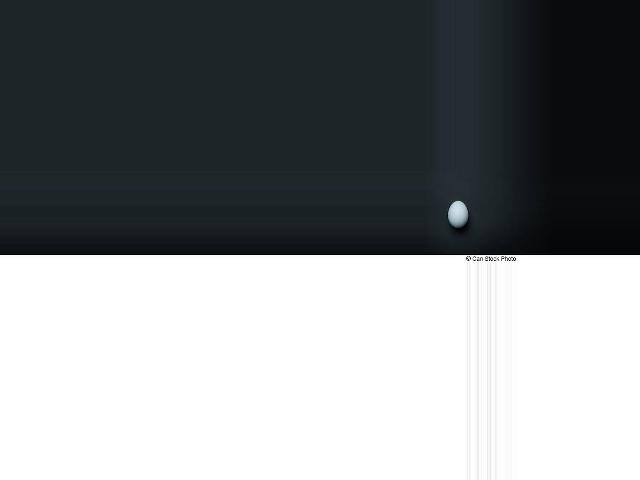egg: (447, 200, 468, 228)
